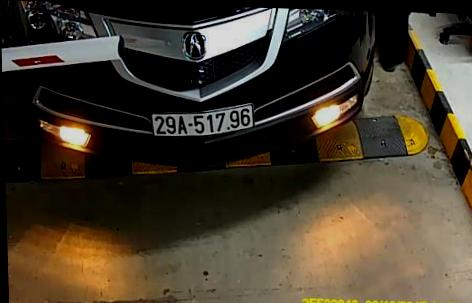License_Plate: (146, 104, 256, 135)
